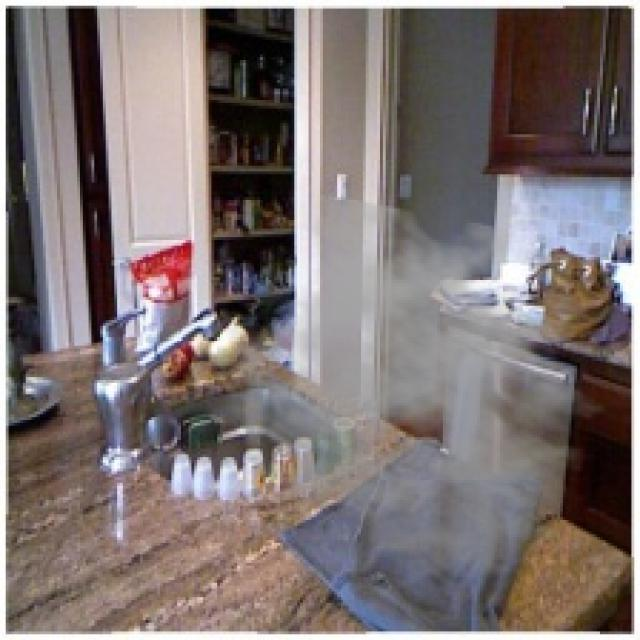Smoke: (203, 191, 626, 583)
